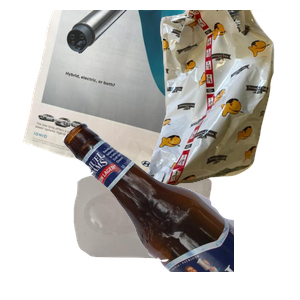glass: (60, 120, 300, 300)
paper: (20, 10, 244, 190)
plastic: (71, 169, 275, 300)
trash: (127, 10, 300, 190)
